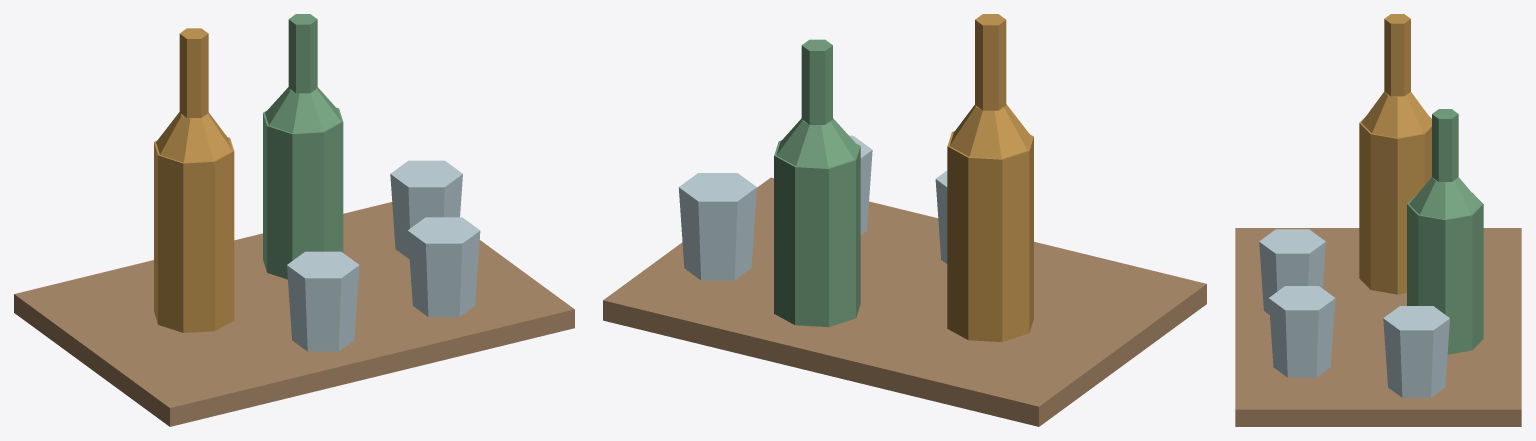
Rendered from SM_Whiskey_Set.glb.
The picture shows the model from 3 angles, left to right: view 1: azimuth 30°, elevation 25°; view 2: azimuth 150°, elevation 25°; view 3: azimuth 270°, elevation 25°; orthographic projection. The views are drawn at different scales.
Visible parts, largest first — view 1: SM_Whiskey_Set; view 2: SM_Whiskey_Set; view 3: SM_Whiskey_Set.
Part boxes in pixels (x1,y1,x2,y2): SM_Whiskey_Set: [14, 14, 574, 426]; SM_Whiskey_Set: [603, 14, 1206, 426]; SM_Whiskey_Set: [1235, 14, 1521, 426].
Bounding box in the file's own units: 0.45 × 0.32 × 0.3.
